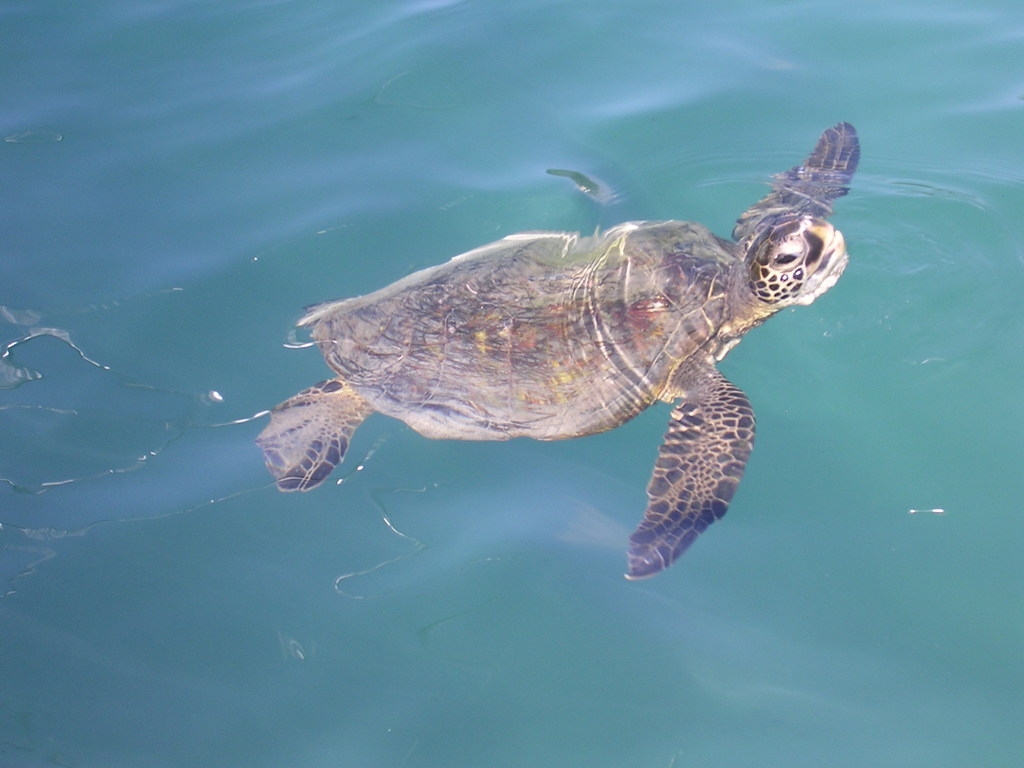Sea turtles: (254, 119, 863, 581)
